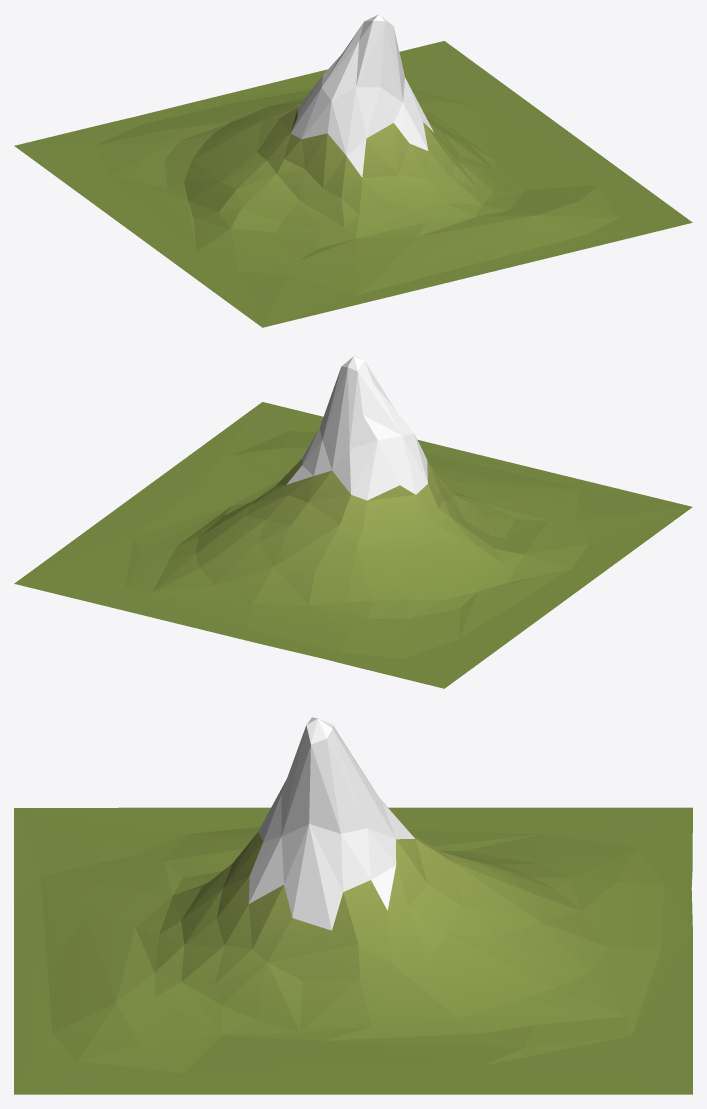
Rendered from Terrain_05.fbx.
The picture shows the model from 3 angles, top to bottom: view 1: azimuth 30°, elevation 25°; view 2: azimuth 150°, elevation 25°; view 3: azimuth 270°, elevation 25°; orthographic projection. The views are drawn at different scales.
Parts seen in each view (by area): view 1: Terrain_05; view 2: Terrain_05; view 3: Terrain_05.
Boxes of the visible parts, <box> form: Terrain_05: <box>14,14,692,327</box>; Terrain_05: <box>14,356,692,688</box>; Terrain_05: <box>14,717,692,1094</box>.
Bounding box in the file's own units: 128 × 50.48 × 128.
